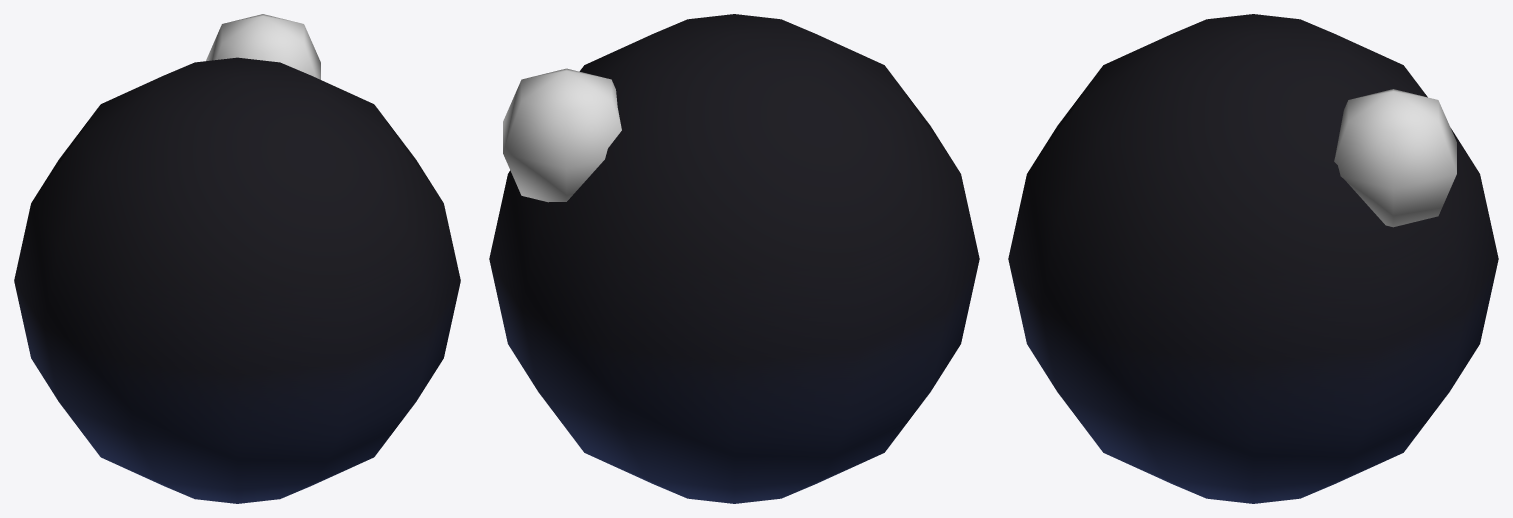
File: Yamane_Eye.fbx
3 views of the same model, side by side, from view 1: azimuth 30°, elevation 25°; view 2: azimuth 150°, elevation 25°; view 3: azimuth 270°, elevation 25° (orthographic). The views are drawn at different scales.
Parts seen in each view (by area): view 1: Yamane_Eye; view 2: Yamane_Eye; view 3: Yamane_Eye.
Boxes of the visible parts, x1,y1,x2,y2 form: Yamane_Eye: (14,14,460,503); Yamane_Eye: (489,14,979,503); Yamane_Eye: (1008,14,1498,503).
Size of the model in its own units: 0.14 by 0.14 by 0.14.
